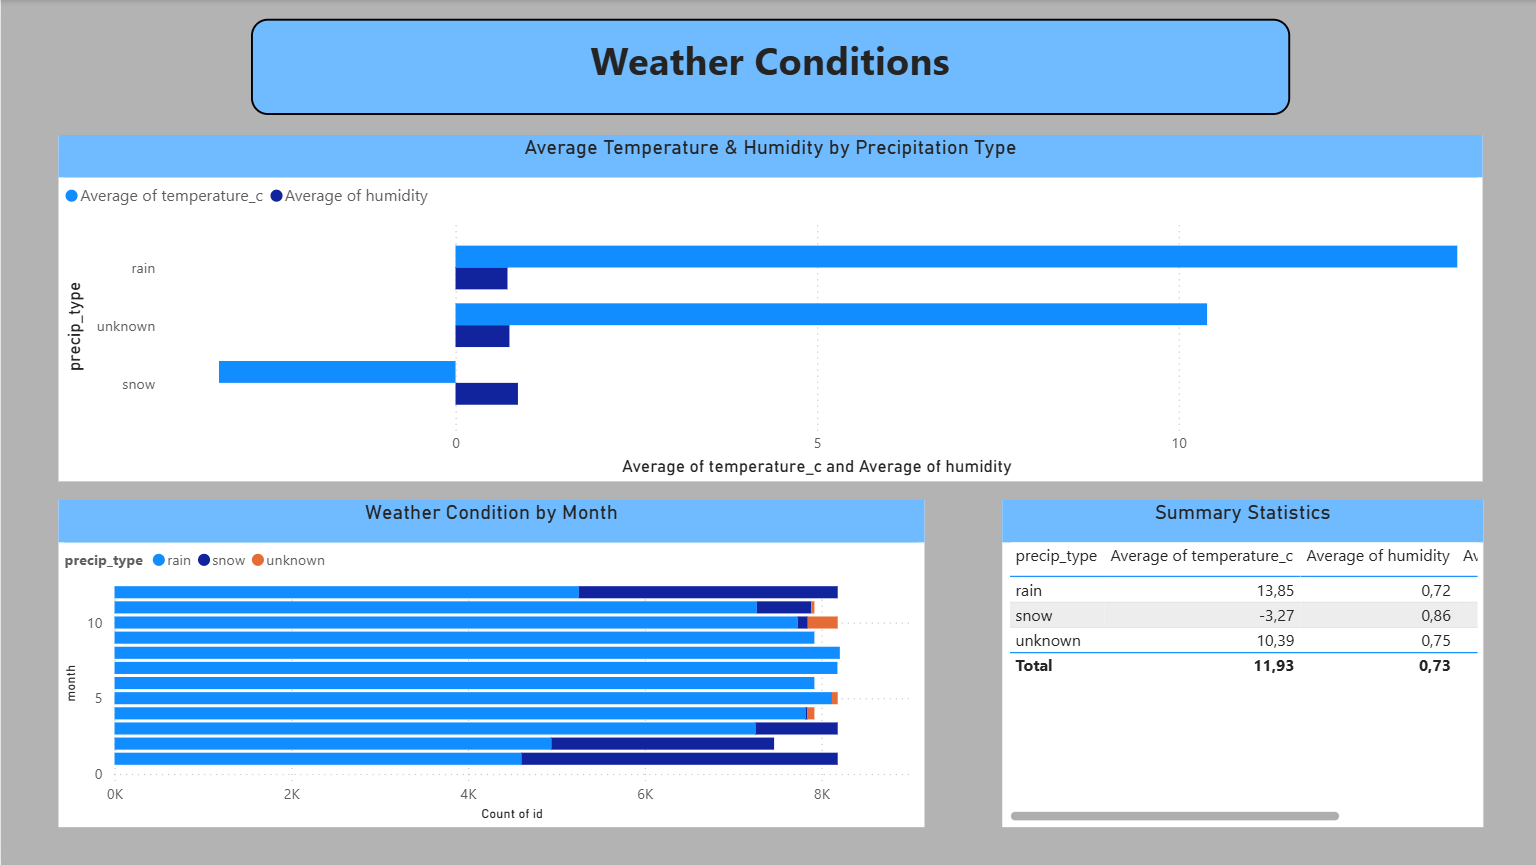

This screenshot's page, from the dashboard's own definition file:
{"tool":"powerbi","page":{"name":"Weather Conditions","canvas":[1280,720],"ordinal":2},"visuals":[{"type":"clusteredBarChart","title":"Average Temperature & Humidity by Precipitation Type","fields":{"Category":["weather db status_types.precip_type"],"Y":["Avg(weather db weather_data.temperature_c)","Avg(weather db weather_data.humidity)"]},"box":[48,112,1184,288],"z":0},{"type":"barChart","title":"Weather Condition by Month","fields":{"Category":["weather db weather_data.month"],"Series":["weather db status_types.precip_type"],"Y":["CountNonNull(weather db weather_data.id)"]},"box":[48,416,720,272],"z":1},{"type":"tableEx","title":"Summary Statistics","fields":{"Values":["weather db status_types.precip_type","Avg(weather db weather_data.temperature_c)","Avg(weather db weather_data.humidity)","Avg(weather db weather_data.wind_speed_kmh)"]},"box":[832,416,400,272],"z":2},{"type":"textbox","box":[208,16,864,80],"z":3}]}

Visuals, with their boxes in screenshot pixels (x1, y1, x2, y2), scaled from the page's 1280x720 canvas onto the 1536x865 screenshot:
"Average Temperature & Humidity by Precipitation Type" clusteredBarChart: {"x1": 58, "y1": 135, "x2": 1478, "y2": 481}
"Weather Condition by Month" barChart: {"x1": 58, "y1": 500, "x2": 922, "y2": 827}
"Summary Statistics" tableEx: {"x1": 998, "y1": 500, "x2": 1478, "y2": 827}
textbox: {"x1": 250, "y1": 19, "x2": 1286, "y2": 115}
